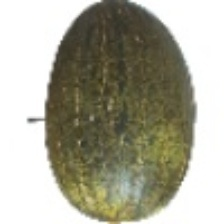honeydew: (21, 33, 222, 173)
